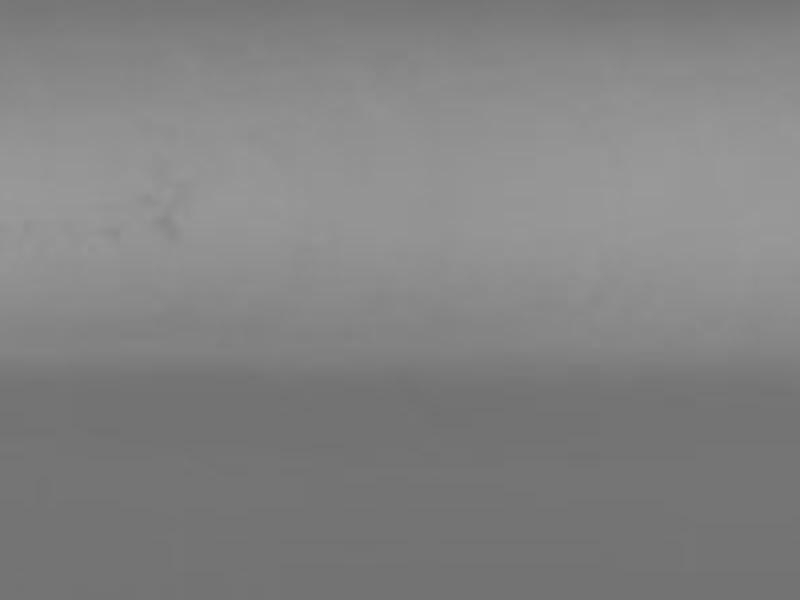defect: (153, 216, 183, 240), (134, 190, 161, 211), (101, 225, 125, 248), (21, 216, 37, 234)
